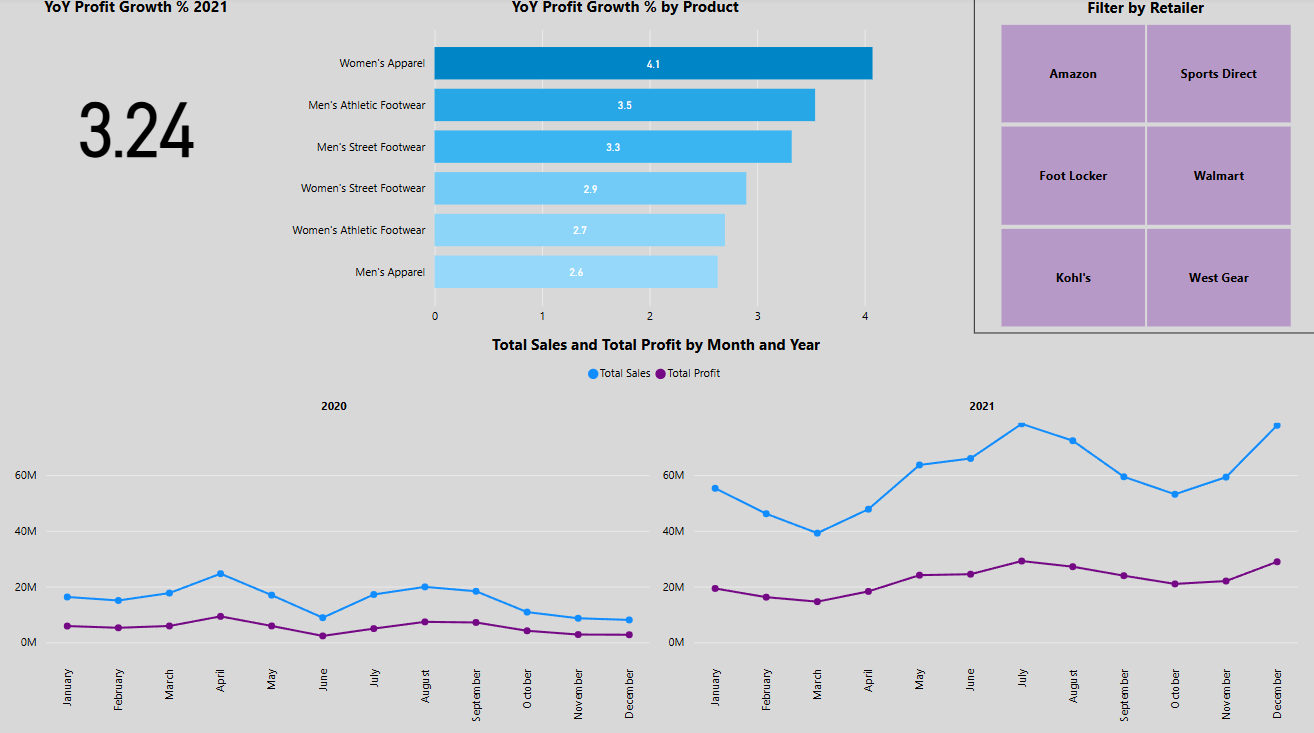

Layout of this report page (visuals, bound fields, positions):
{"tool":"powerbi","page":{"name":"Trends Over Time","canvas":[1280,720],"ordinal":3},"visuals":[{"type":"lineChart","title":"Total Sales and Total Profit by Month and Year","fields":{"Category":["Date Table.Month"],"Y":["Data Sales Adidas.Total_Sales","Data Sales Adidas.Total_Profit"],"Rows":["Date Table.Year"]},"box":[0,327.1,1280.8,393.5],"z":0},{"type":"kpi","title":"YoY Profit Growth % 2021","fields":{"Indicator":["Data Sales Adidas.YoY Profit Growth %"],"TrendLine":["Date Table.Year"]},"box":[0,0,272,238],"z":1000},{"type":"clusteredBarChart","fields":{"Y":["Data Sales Adidas.YoY Profit Growth %"],"Category":["Data Sales Adidas.Product"]},"box":[272,0,676.8,327.1],"z":2000},{"type":"slicer","title":"Filter by Retailer","fields":{"Values":["Data Sales Adidas.Retailer"]},"box":[948.9,0,331.9,327.1],"z":3000}]}

Visuals, with their boxes in screenshot pixels (x1, y1, x2, y2), scaled from the page's 1280x720 canvas onto the 1314x733 screenshot:
"Total Sales and Total Profit by Month and Year" lineChart: <bbox>0, 333, 1313, 732</bbox>
"YoY Profit Growth % 2021" kpi: <bbox>0, 0, 279, 242</bbox>
clusteredBarChart - Data Sales Adidas.YoY Profit Growth % x Data Sales Adidas.Product: <bbox>279, 0, 974, 333</bbox>
"Filter by Retailer" slicer: <bbox>974, 0, 1313, 333</bbox>
